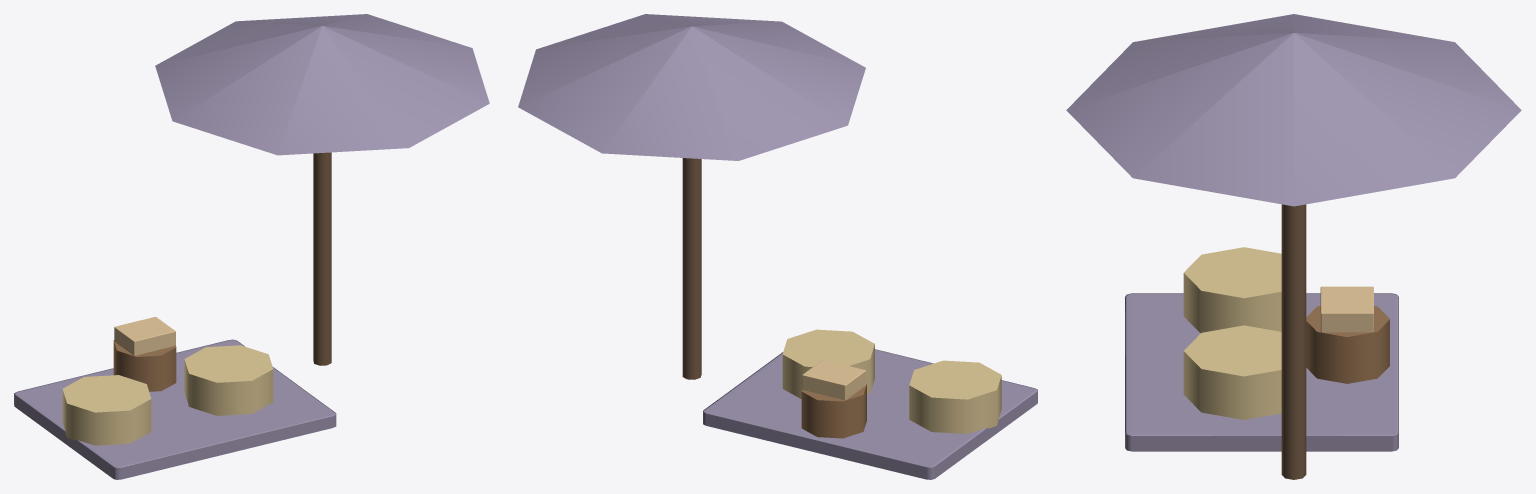
The model's file is summerparasol-2.glb.
The picture shows the model from 3 angles, left to right: view 1: azimuth 30°, elevation 25°; view 2: azimuth 150°, elevation 25°; view 3: azimuth 270°, elevation 25°; orthographic projection. The views are drawn at different scales.
Visible parts, largest first — view 1: summerparasol-2-0; view 2: summerparasol-2-0; view 3: summerparasol-2-0.
Part boxes in pixels (x1,y1,x2,y2): summerparasol-2-0: [14, 14, 489, 479]; summerparasol-2-0: [518, 14, 1037, 479]; summerparasol-2-0: [1066, 14, 1521, 479].
Size of the model in its own units: 1.81 by 1.39 by 1.28.
